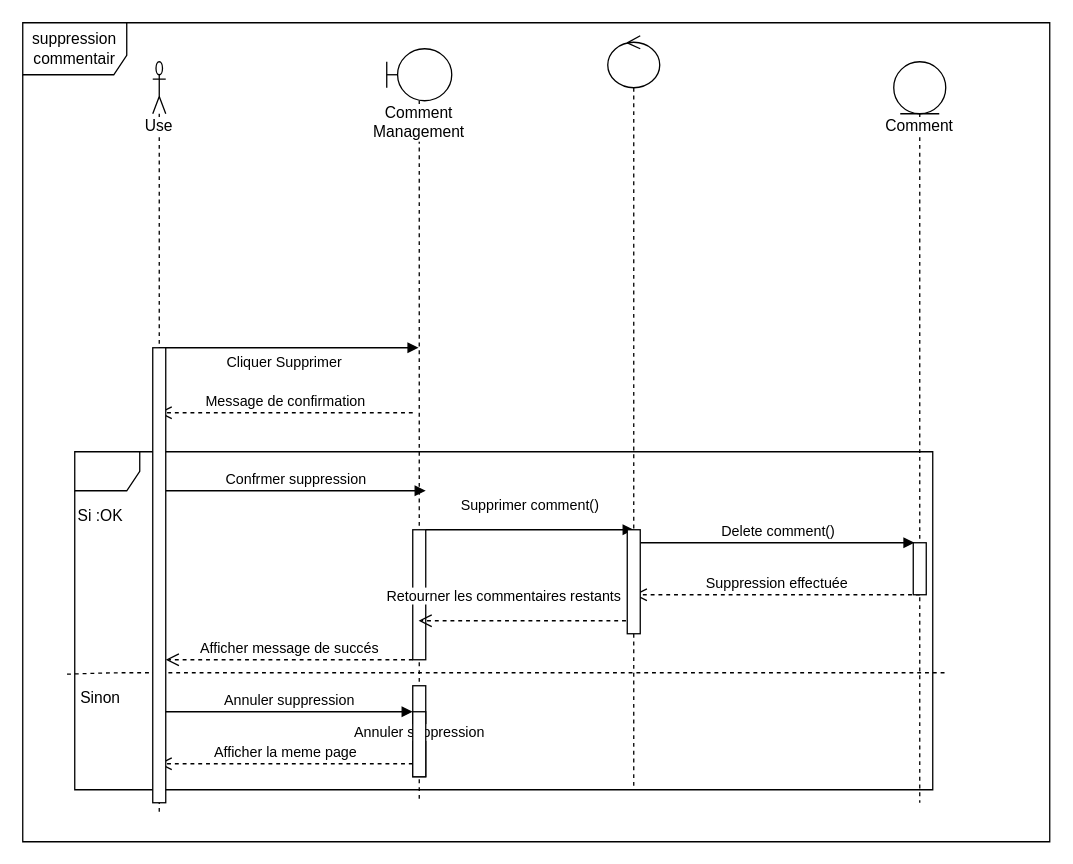
Image size: 1073x864. Some labels were removed from this diagram. The shapes that lost their labels are listed below. From the top down, each one's box as (x1, y1, x2, y2) in pixels, then its label:
(606, 34, 660, 790): Comment Management controller
(73, 450, 933, 790): alt
